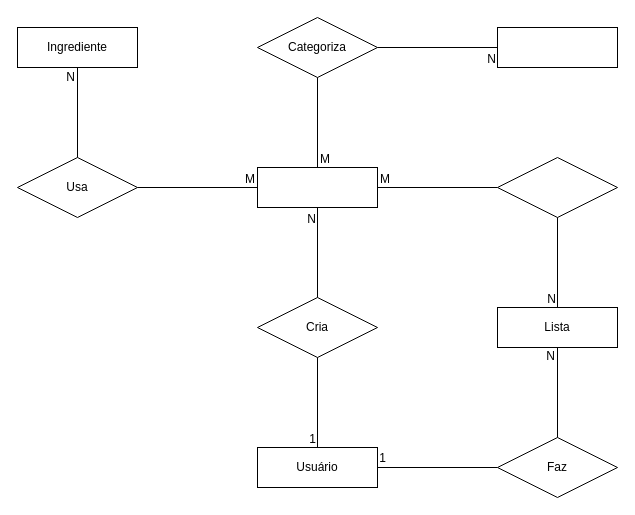
The diagram is 635 pixels wide and 515 high, and some of its shapes have lost their labels. Here are the shapes that lost their labels. From the top down, the box of each, then its label:
(496, 26, 618, 68): Tag
(256, 166, 378, 208): Receita
(496, 156, 618, 218): Possui
